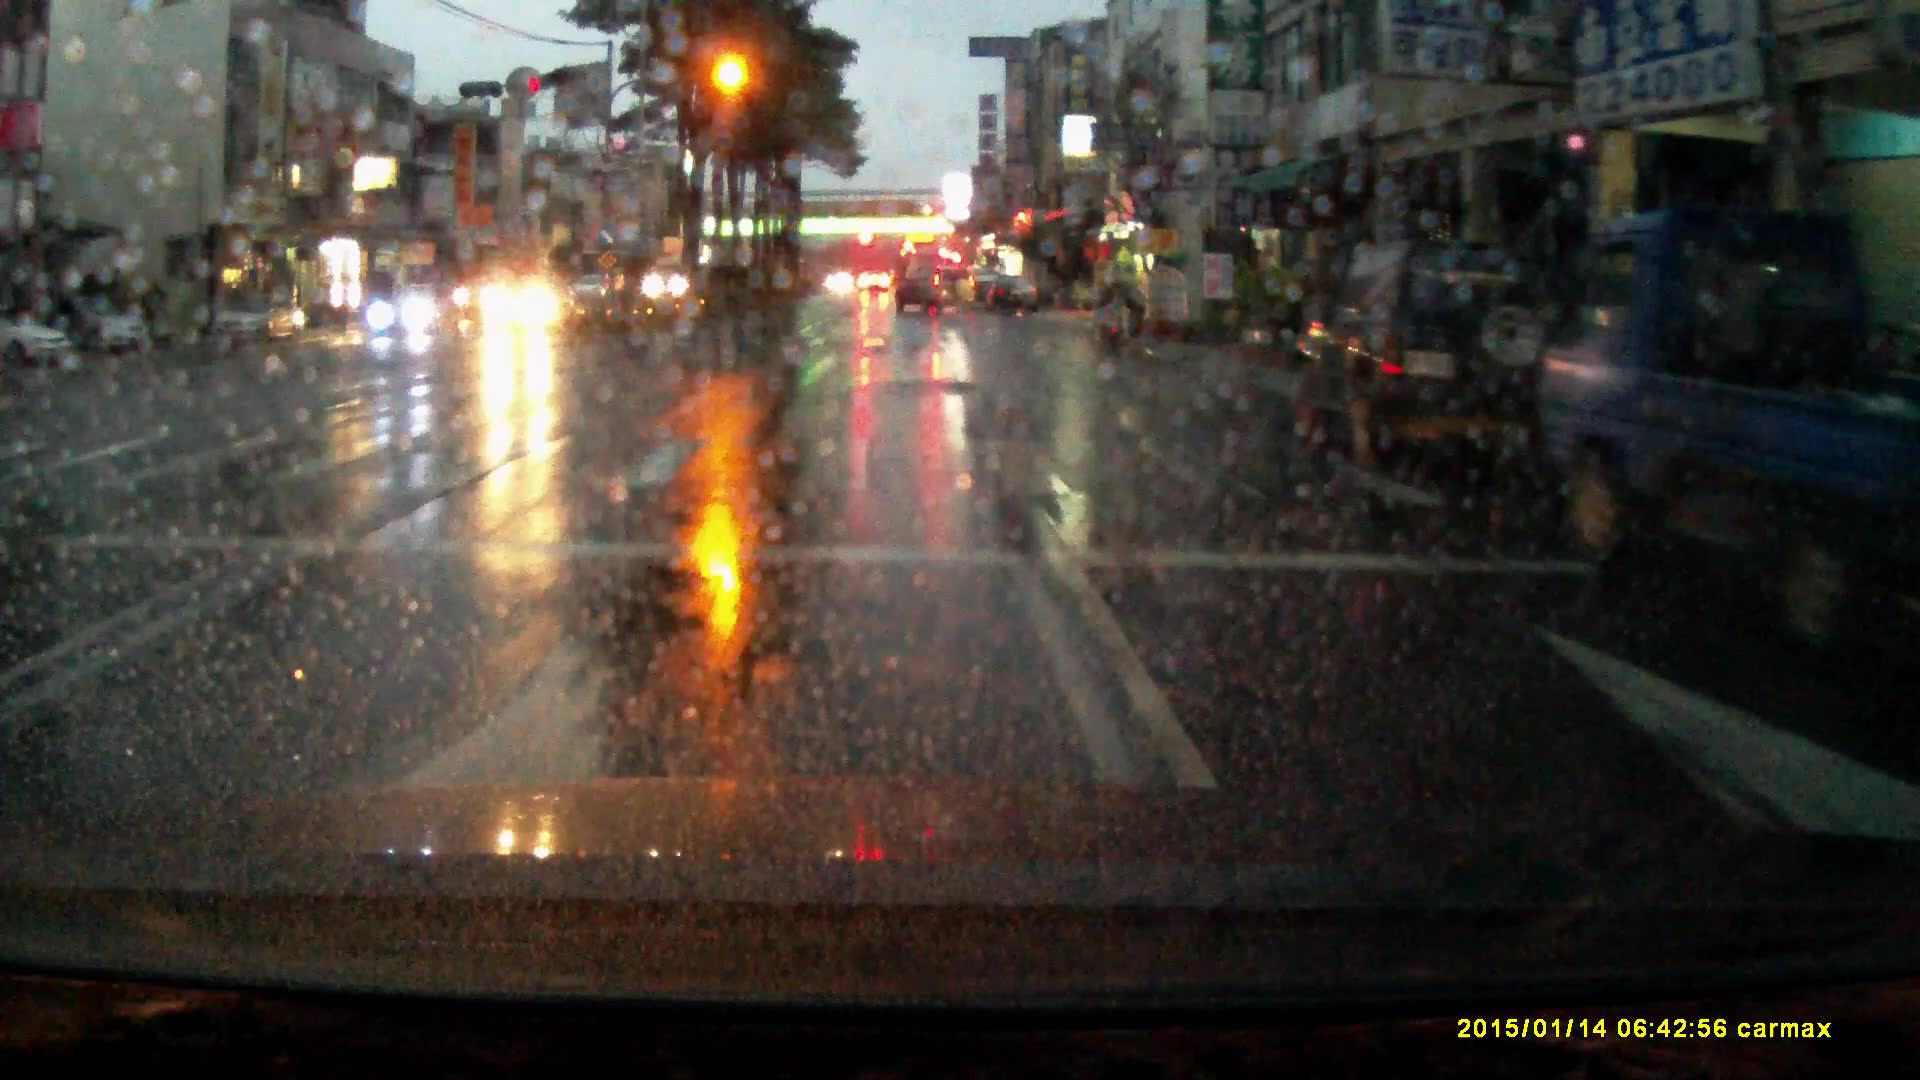vehicle: (1532, 218, 1905, 618), (1286, 249, 1578, 468), (477, 276, 578, 338), (212, 297, 309, 352), (371, 284, 455, 339), (894, 268, 976, 322), (1, 315, 73, 368), (87, 305, 153, 357), (899, 249, 945, 307), (984, 278, 1036, 319), (571, 274, 611, 307), (975, 272, 1005, 313), (857, 272, 894, 298)
